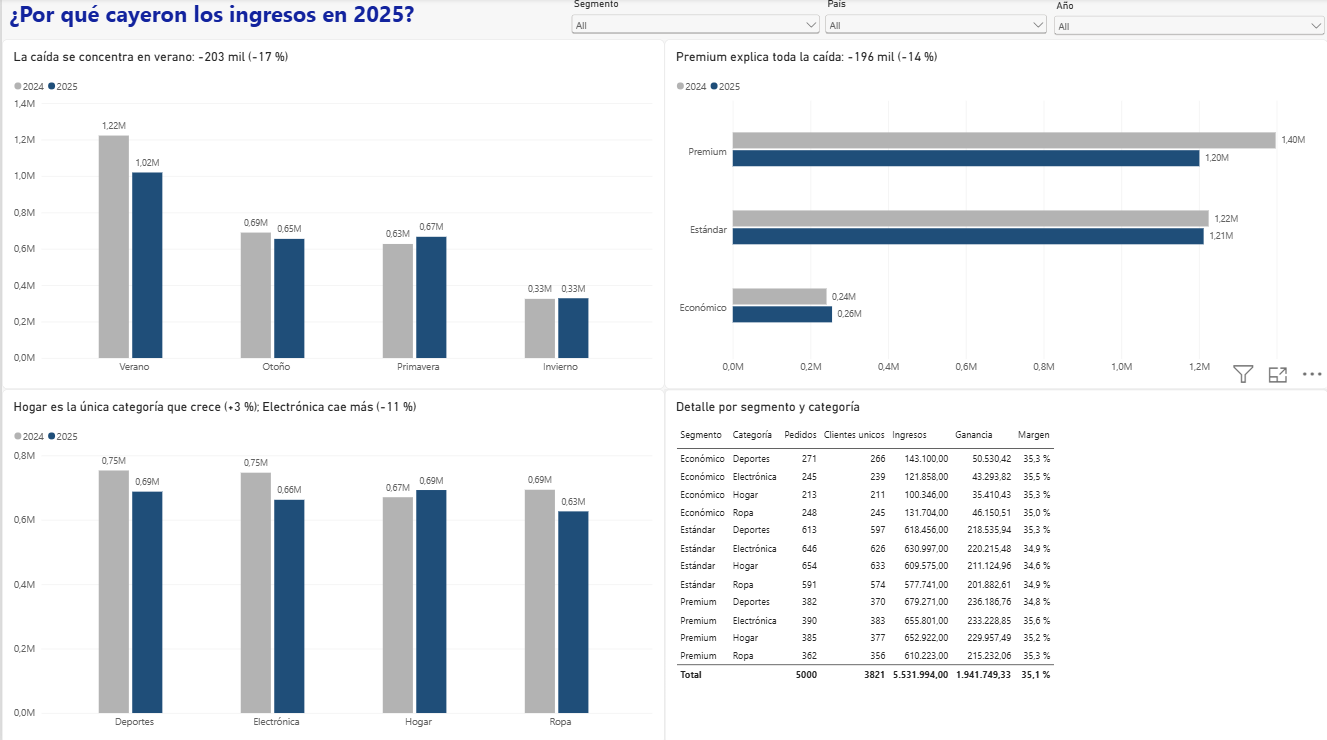

The dashboard page shown, as its layout file describes it:
{"tool":"powerbi","page":{"name":"Vista Detalle","canvas":[1920,1080],"ordinal":1},"visuals":[{"type":"textbox","box":[10.2,0,810.2,77.6],"z":0},{"type":"slicer","fields":{"Values":["Ventas.Año"]},"box":[1518.4,2,402,57.1],"z":1000},{"type":"slicer","fields":{"Values":["Ventas.País"]},"box":[1187.8,0,330.6,59.2],"z":1001},{"type":"slicer","fields":{"Values":["Ventas.Segmento_Cliente"]},"box":[820.4,0,369.4,63.3],"z":1002},{"type":"clusteredColumnChart","title":"La caída se concentra en verano: −203 mil (−17 %)","fields":{"Category":["Ventas.Estación"],"Series":["Ventas.Año"],"Y":["Ventas.Ingresos totales"]},"box":[0,59.7,959.1,506.7],"z":1003},{"type":"clusteredBarChart","title":"Premium explica toda la caída: −196 mil (−14 %)","fields":{"Category":["Ventas.Segmento_Cliente"],"Series":["Ventas.Año"],"Y":["Ventas.Ingresos totales"]},"box":[959.1,59.7,960.9,506.7],"z":1004},{"type":"clusteredColumnChart","title":"Hogar es la única categoría que crece (+3 %); Electrónica cae más (−11 %)","fields":{"Category":["Ventas.Categoría_Producto"],"Series":["Ventas.Año"],"Y":["Ventas.Ingresos totales"]},"box":[0,566.4,959.1,513.9],"z":1005},{"type":"tableEx","title":"Detalle por segmento y categoría","fields":{"Values":["Ventas.Segmento_Cliente","Ventas.Categoría_Producto","Ventas.Pedidos","Ventas.Clientes","Ventas.Ingresos totales","Ventas.Ganancia","Ventas.Margen %"]},"box":[959.1,566.4,960.9,513.9],"z":1006}]}

Visuals, with their boxes in screenshot pixels (x1, y1, x2, y2), scaled from the page's 1920x1080 canvas onto the 1327x740 screenshot:
textbox: select_region(7, 0, 567, 53)
slicer - Ventas.Año: select_region(1049, 1, 1326, 40)
slicer - Ventas.País: select_region(821, 0, 1049, 41)
slicer - Ventas.Segmento_Cliente: select_region(567, 0, 822, 43)
"La caída se concentra en verano: −203 mil (−17 %)" clusteredColumnChart: select_region(0, 41, 663, 388)
"Premium explica toda la caída: −196 mil (−14 %)" clusteredBarChart: select_region(663, 41, 1326, 388)
"Hogar es la única categoría que crece (+3 %); Electrónica cae más (−11 %)" clusteredColumnChart: select_region(0, 388, 663, 739)
"Detalle por segmento y categoría" tableEx: select_region(663, 388, 1326, 739)
